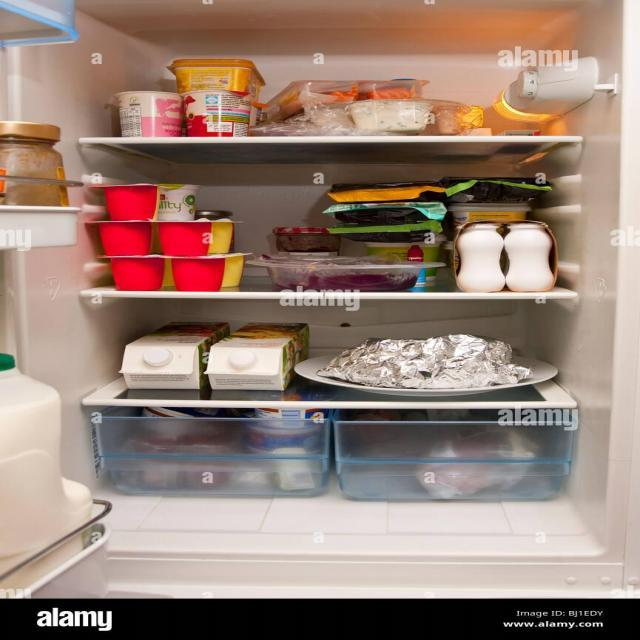cream cheese: (168, 58, 266, 93)
milk: (122, 324, 227, 388), (209, 324, 303, 390)
yoghurt: (184, 88, 252, 136), (115, 90, 183, 136)
